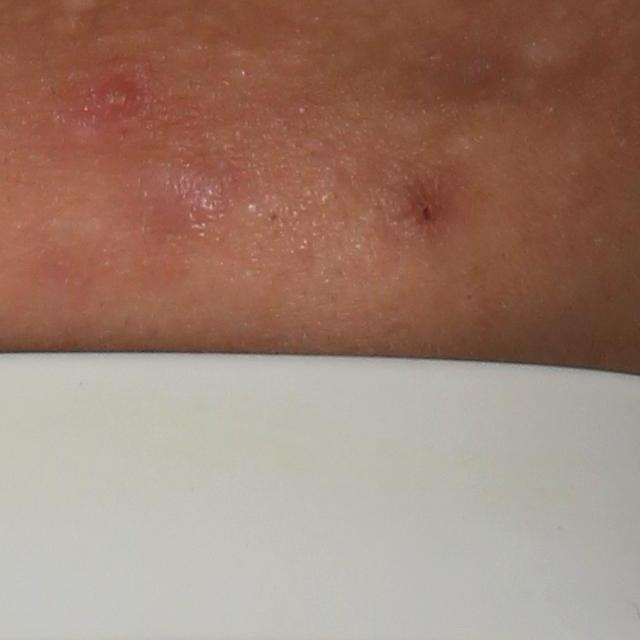hypertrophic_scar: (505, 24, 602, 79), (270, 32, 333, 79), (163, 32, 222, 74), (44, 12, 99, 39)
papule: (133, 166, 224, 235), (86, 69, 162, 128)
